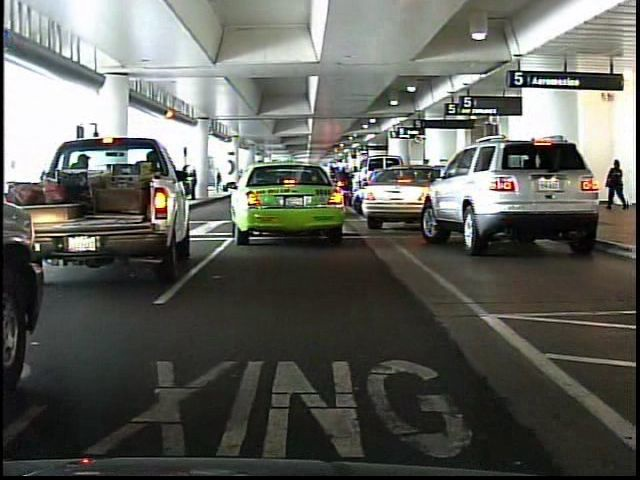person: (606, 160, 630, 217)
